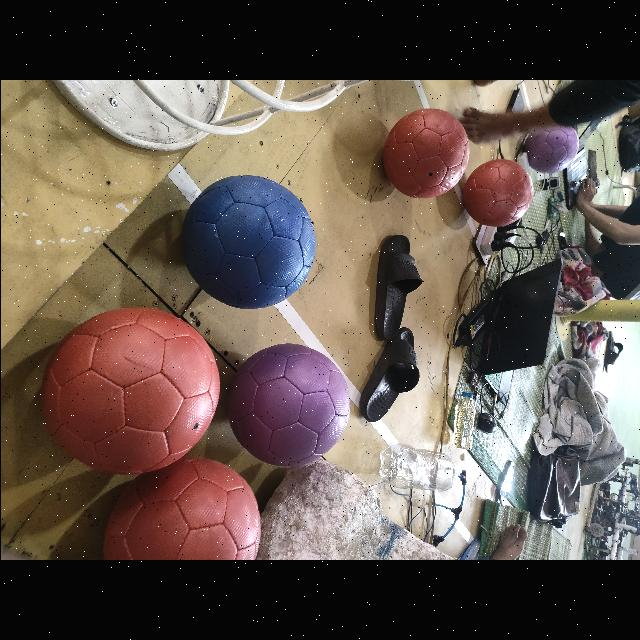B: (181, 175, 315, 308)
P: (226, 344, 350, 466)
R: (42, 308, 220, 474), (104, 458, 260, 560), (382, 109, 468, 198), (462, 160, 532, 227)
